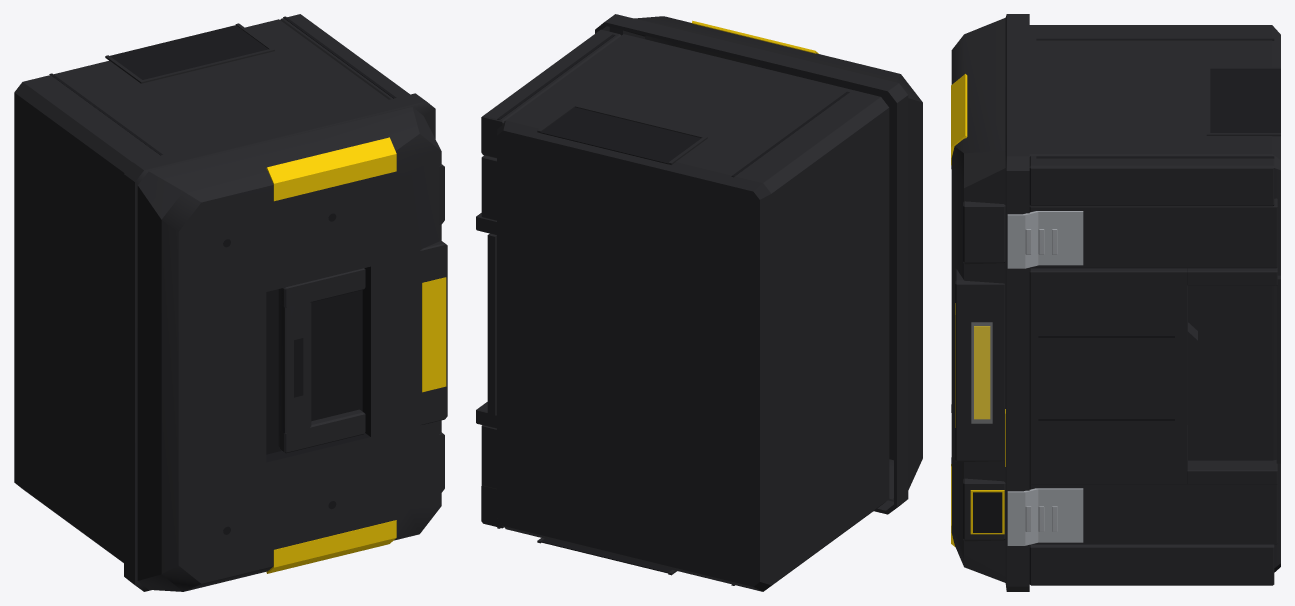
The model's file is DWST83346.glb.
The picture shows the model from 3 angles, left to right: view 1: azimuth 30°, elevation 25°; view 2: azimuth 150°, elevation 25°; view 3: azimuth 270°, elevation 25°; orthographic projection. The views are drawn at different scales.
Parts seen in each view (by area): view 1: vicko_plast, korpus_vana, vicko_kapsa, drzadlo_hmat, hak_stoh_p, bok_kapsa_p, hak_stoh_l, logo_dewalt, ostruvek, celo_sloupek_p, drzadlo_rameno_l, drzadlo_rameno_p (+1 smaller); view 2: korpus_vana, vicko_plast, bok_kapsa_p, celo_sloupek_p, kapsa_dno, celo_zona_p, celo_zona_l, bok_kapsa_l, celo_sloupek_l; view 3: korpus_vana, celo_panel_horni, vicko_plast, celo_zona_p, celo_zona_l, celo_sloupek_p, celo_sloupek_l, ostruvek, bok_kapsa_p, zamek_l, zamek_p, sloupek_p (+11 smaller).
Part boxes in pixels (x1,y1,x2,y2): vicko_plast: [124, 93, 441, 591]; korpus_vana: [14, 19, 388, 562]; vicko_kapsa: [266, 266, 370, 462]; drzadlo_hmat: [278, 282, 311, 450]; hak_stoh_p: [266, 137, 396, 201]; bok_kapsa_p: [110, 25, 268, 79]; hak_stoh_l: [266, 520, 396, 573]; logo_dewalt: [422, 277, 446, 392]; ostruvek: [419, 240, 447, 424]; celo_sloupek_p: [280, 14, 409, 99]; drzadlo_rameno_l: [280, 409, 365, 453]; drzadlo_rameno_p: [280, 268, 365, 307]; korpus_vana: [497, 34, 889, 591]; vicko_plast: [595, 14, 922, 514]; bok_kapsa_p: [540, 107, 701, 164]; celo_sloupek_p: [481, 29, 621, 158]; kapsa_dno: [487, 233, 496, 415]; celo_zona_p: [481, 155, 496, 220]; celo_zona_l: [481, 425, 496, 489]; bok_kapsa_l: [540, 538, 671, 573]; celo_sloupek_l: [481, 485, 503, 528]; korpus_vana: [1029, 25, 1280, 572]; celo_panel_horni: [1029, 268, 1187, 484]; vicko_plast: [951, 14, 1029, 591]; celo_zona_p: [1029, 198, 1277, 268]; celo_zona_l: [1029, 484, 1277, 544]; celo_sloupek_p: [1029, 156, 1274, 206]; celo_sloupek_l: [1029, 544, 1274, 585]; ostruvek: [955, 268, 1004, 462]; bok_kapsa_p: [1210, 69, 1280, 132]; zamek_l: [1007, 488, 1083, 545]; zamek_p: [1007, 211, 1083, 268]; sloupek_p: [963, 201, 1005, 264].
Size of the model in its own units: 333 by 440 by 302.
